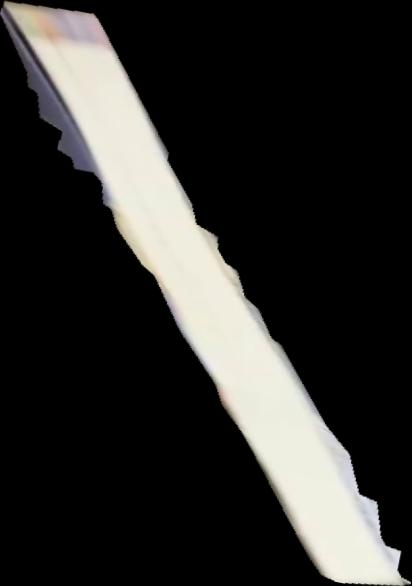backward: (1, 1, 412, 586)
